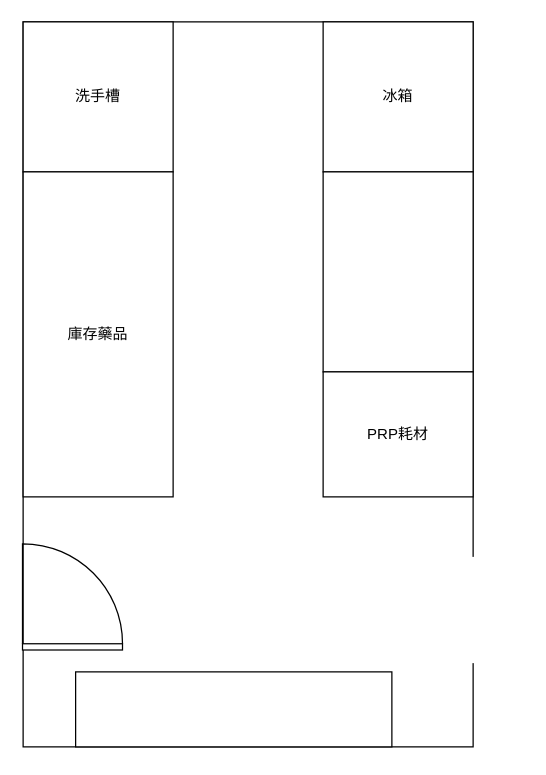
Some shapes in this 546 by 775 pixel diagram are drawn without their labels. The shapes that lost their labels are listed below. From the top down, each one's box as (x1, y1, x2, y2) in pixels, then its label:
(322, 171, 473, 372): 空針、藥品
(74, 671, 392, 747): 點滴
